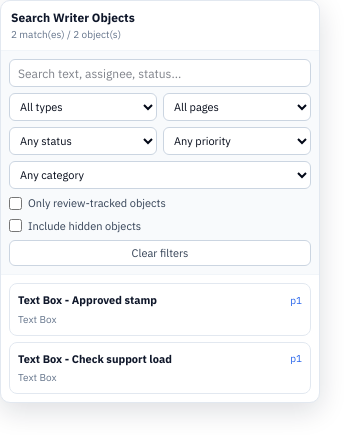
Test: WriterObjectSearchPanel › renders and filters by search text
Expected: the text "Text Box - Check support load" is shown, [18,350,172,367]
Expected: the text "Text Box - Approved stamp" is shown, [18,292,157,308]
Type "support" into the field named "Search Writer objects". click: coordinates (160, 73)
box: [9,59,311,87]
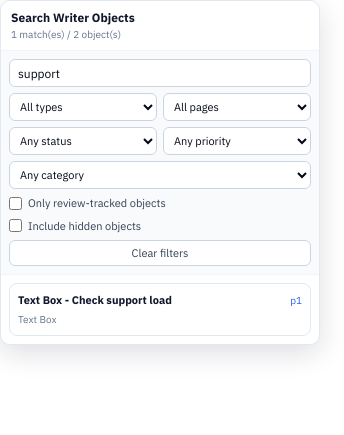
Expected: the text "Text Box - Check support load" is shown, [18,292,172,308]
Expected: the list item "Approved stamp" is gone
